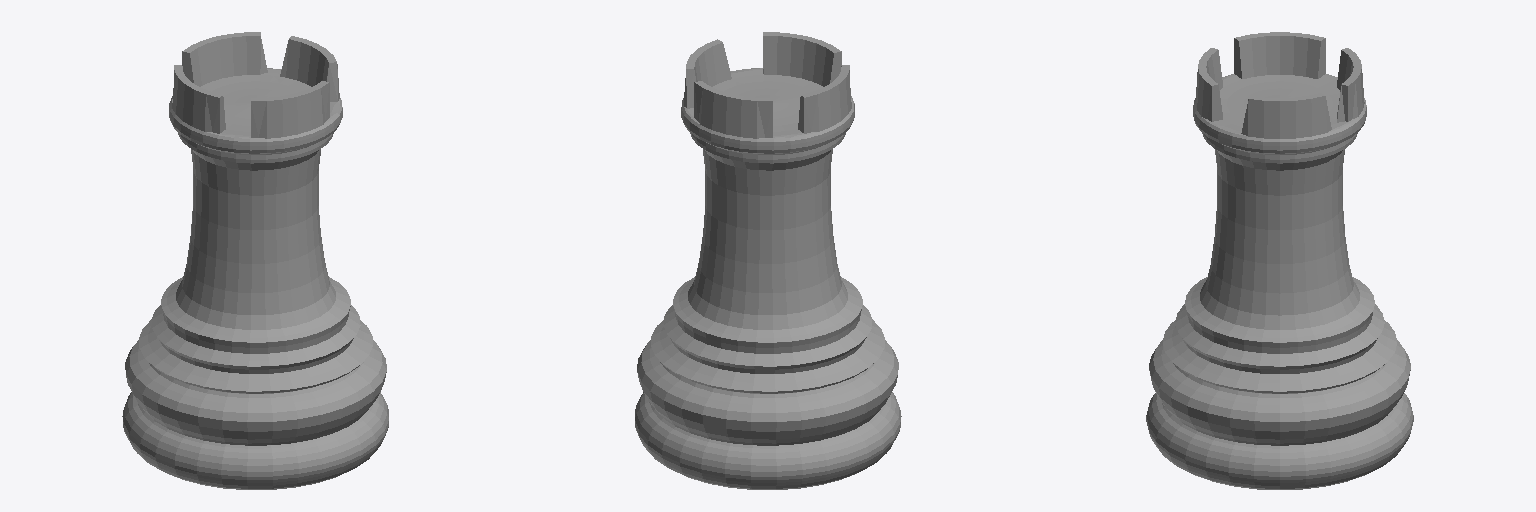
The model's file is Rook.obj.
3 renders of one model, left to right at view 1: azimuth 30°, elevation 25°; view 2: azimuth 150°, elevation 25°; view 3: azimuth 270°, elevation 25°, orthographic.
Visible parts, largest first — view 1: Rook_Plane; view 2: Rook_Plane; view 3: Rook_Plane.
Boxes of the visible parts, box(x1,y1,x2,y2) form: Rook_Plane: box(122, 32, 388, 489); Rook_Plane: box(635, 32, 901, 489); Rook_Plane: box(1146, 32, 1413, 489).
Bounding box in the file's own units: 3.46 × 5.4 × 3.46.